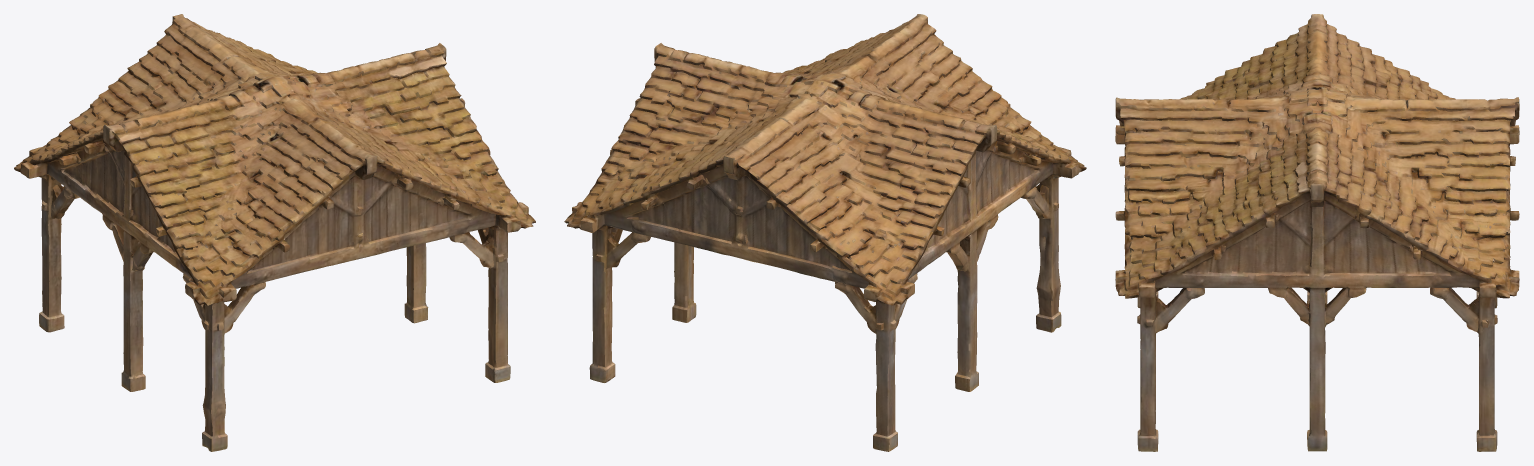
The model's file is siege_workshop__rustic-shelter.glb.
3 views of the same model, side by side, from view 1: azimuth 30°, elevation 25°; view 2: azimuth 150°, elevation 25°; view 3: azimuth 270°, elevation 25° (orthographic). The views are drawn at different scales.
Size of the model in its own units: 1.91 by 1.48 by 1.91.
Materials: 1 (1 with a texture image).
